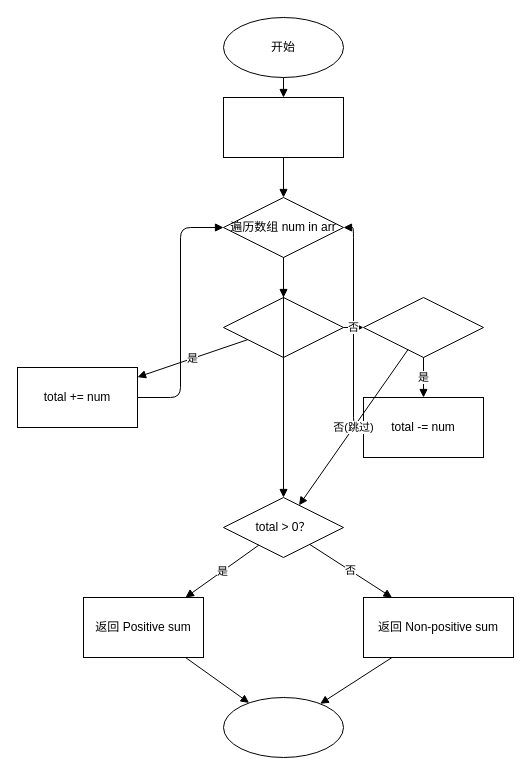
This 531x775 diagram has some shape labels left out. The shapes that lost their labels are listed below. From the top down, each one's box as (x1, y1, x2, y2) in pixels, then its label:
(222, 96, 344, 158): total = 0
(222, 296, 344, 358): num > 0 且 num < 10？
(362, 296, 484, 358): num >= 10？
(222, 696, 344, 758): 结束
